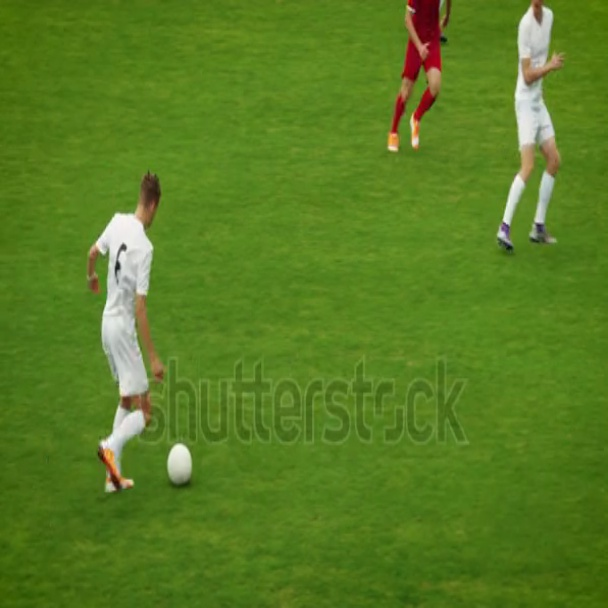ball: (163, 440, 195, 489)
